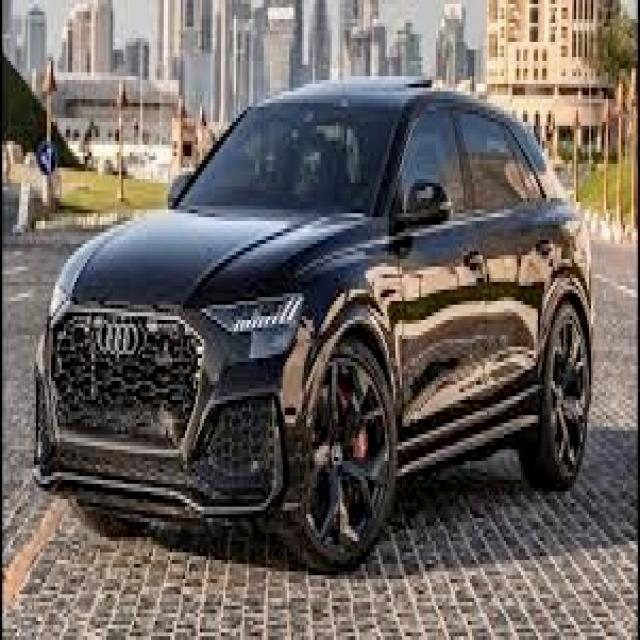black: (35, 78, 591, 563)
